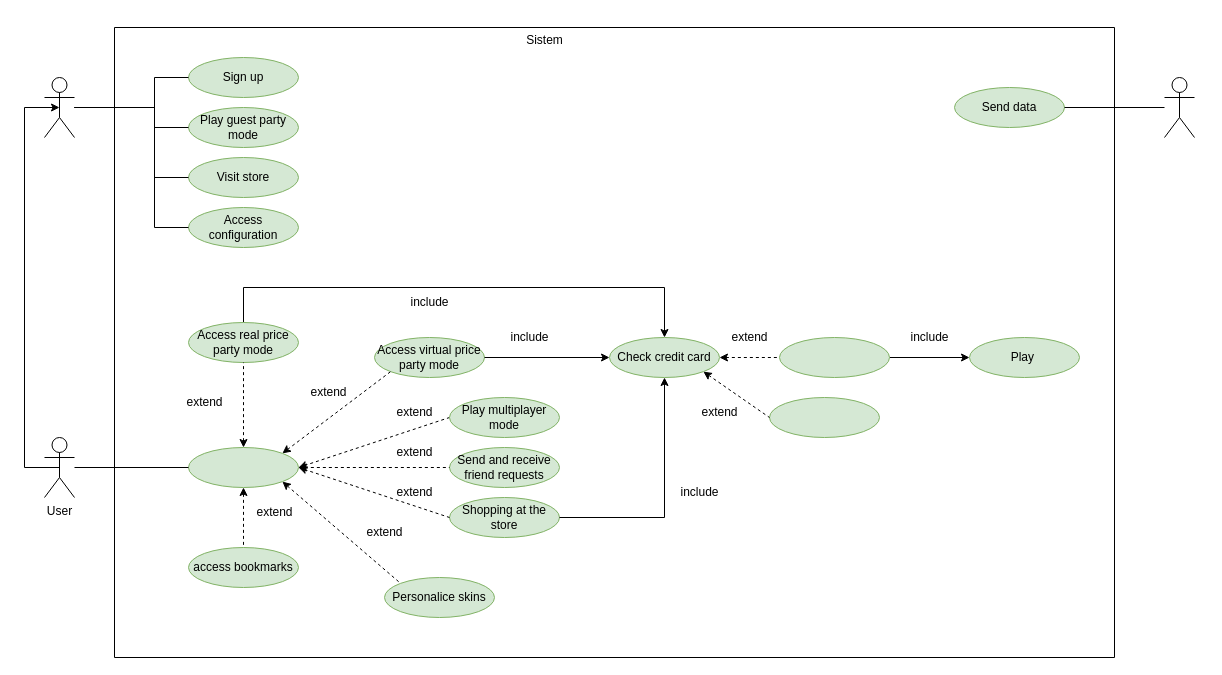
The diagram is 1222 pixels wide and 675 high, and some of its shapes have lost their labels. Each missing label, with the centre of its shape:
Credit card approved: [834,357]
credit card rejected: [824,417]
Database: [1179,107]
Guest: [59,107]
Log in: [243,467]
